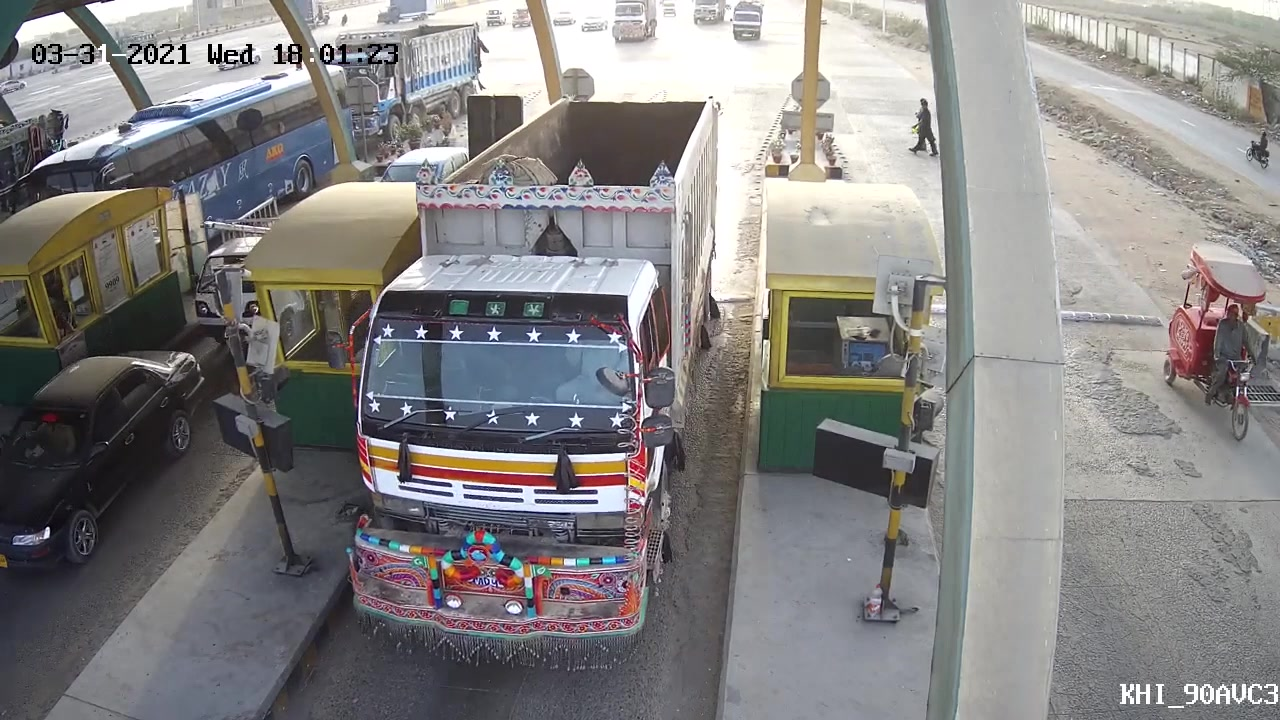F5: (317, 124, 722, 677)
